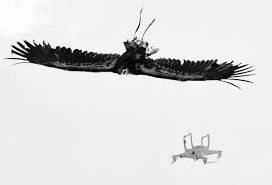Bird: (2, 4, 257, 90)
Drone: (167, 129, 227, 168)
